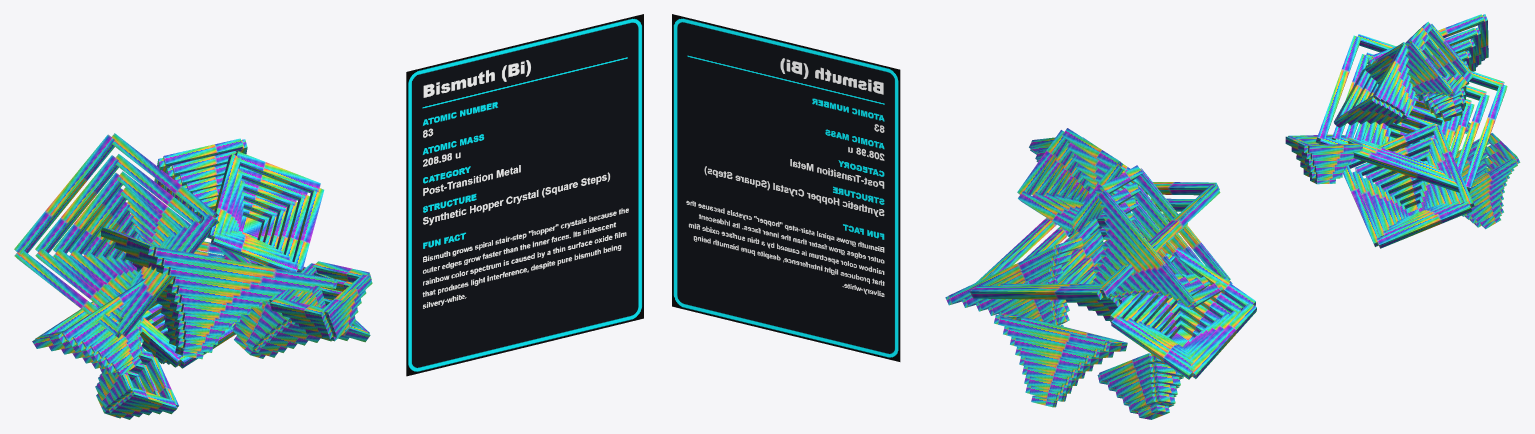
The model's file is bismuth.glb.
3 renders of one model, left to right at view 1: azimuth 30°, elevation 25°; view 2: azimuth 150°, elevation 25°; view 3: azimuth 270°, elevation 25°, orthographic. The views are drawn at different scales.
Parts seen in each view (by area): view 1: Mesh_270, Mesh_45, Mesh_1, Mesh_46, Mesh_49, Mesh_47, Mesh_48, Mesh_53, Mesh_5, Mesh_177, Mesh_178, Mesh_51 (+27 smaller); view 2: Mesh_270, Mesh_0, Mesh_45, Mesh_3, Mesh_46, Mesh_148, Mesh_151, Mesh_118, Mesh_85, Mesh_149, Mesh_2, Mesh_204 (+16 smaller); view 3: Mesh_2, Mesh_82, Mesh_1, Mesh_0, Mesh_85, Mesh_84, Mesh_83, Mesh_3, Mesh_4, Mesh_204, Mesh_88, Mesh_177 (+42 smaller).
Boxes of the visible parts, <box> form: Mesh_270: <box>406,14,643,376</box>; Mesh_45: <box>14,134,114,254</box>; Mesh_1: <box>153,246,334,288</box>; Mesh_46: <box>115,214,219,336</box>; Mesh_49: <box>35,155,118,254</box>; Mesh_47: <box>111,133,218,219</box>; Mesh_48: <box>14,250,121,338</box>; Mesh_53: <box>53,172,122,253</box>; Mesh_5: <box>161,258,310,292</box>; Mesh_177: <box>235,151,320,193</box>; Mesh_178: <box>210,232,298,272</box>; Mesh_51: <box>113,154,203,225</box>; Mesh_270: <box>672,14,900,361</box>; Mesh_0: <box>970,286,1102,299</box>; Mesh_45: <box>1097,190,1193,306</box>; Mesh_3: <box>1098,185,1220,297</box>; Mesh_46: <box>1136,168,1230,280</box>; Mesh_148: <box>1111,315,1194,379</box>; Mesh_151: <box>1188,302,1256,378</box>; Mesh_118: <box>998,316,1105,350</box>; Mesh_85: <box>948,246,1056,303</box>; Mesh_149: <box>1175,247,1255,307</box>; Mesh_2: <box>972,218,1056,288</box>; Mesh_204: <box>1017,130,1068,195</box>; Mesh_2: <box>1319,137,1466,192</box>; Mesh_82: <box>1376,201,1471,248</box>; Mesh_1: <box>1315,35,1361,143</box>; Mesh_0: <box>1464,84,1507,192</box>; Mesh_85: <box>1433,125,1474,207</box>; Mesh_84: <box>1342,165,1379,246</box>; Mesh_83: <box>1346,123,1436,168</box>; Mesh_3: <box>1357,34,1504,90</box>; Mesh_4: <box>1456,93,1489,174</box>; Mesh_204: <box>1406,42,1453,95</box>; Mesh_88: <box>1352,171,1387,237</box>; Mesh_177: <box>1371,43,1408,101</box>.
Bounding box in the file's own units: 2.87 × 1.4 × 1.23.
2 materials, 2 textured.
